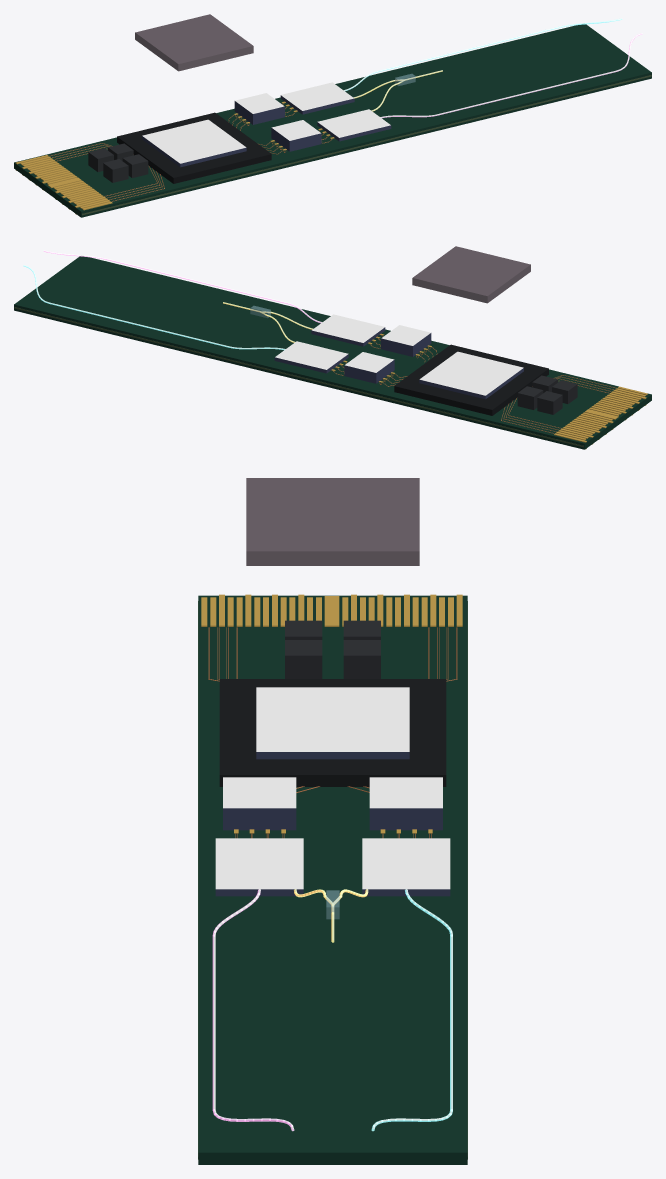
The model's file is coherent-internals.glb.
3 renders of one model, top to bottom at view 1: azimuth 30°, elevation 25°; view 2: azimuth 150°, elevation 25°; view 3: azimuth 270°, elevation 25°, orthographic. The views are drawn at different scales.
Parts seen in each view (by area): view 1: REFERENCE_coherent-internals_0006, REFERENCE_coherent-internals_0005, REFERENCE_coherent-internals_0008, REFERENCE_coherent-internals_0000, REFERENCE_coherent-internals_0011, REFERENCE_coherent-internals_0007, REFERENCE_coherent-internals_0001, REFERENCE_coherent-internals_0002, REFERENCE_coherent-internals_0010, REFERENCE_coherent-internals_0003, REFERENCE_coherent-internals_0004, REFERENCE_coherent-internals_0012 (+2 smaller); view 2: REFERENCE_coherent-internals_0006, REFERENCE_coherent-internals_0005, REFERENCE_coherent-internals_0008, REFERENCE_coherent-internals_0000, REFERENCE_coherent-internals_0011, REFERENCE_coherent-internals_0007, REFERENCE_coherent-internals_0002, REFERENCE_coherent-internals_0001, REFERENCE_coherent-internals_0010, REFERENCE_coherent-internals_0003, REFERENCE_coherent-internals_0004, REFERENCE_coherent-internals_0012 (+2 smaller); view 3: REFERENCE_coherent-internals_0006, REFERENCE_coherent-internals_0005, REFERENCE_coherent-internals_0008, REFERENCE_coherent-internals_0000, REFERENCE_coherent-internals_0011, REFERENCE_coherent-internals_0001, REFERENCE_coherent-internals_0002, REFERENCE_coherent-internals_0007, REFERENCE_coherent-internals_0003, REFERENCE_coherent-internals_0004, REFERENCE_coherent-internals_0015, REFERENCE_coherent-internals_0012 (+2 smaller).
Boxes of the visible parts, <box> form: REFERENCE_coherent-internals_0006: <box>14,24,651,217</box>; REFERENCE_coherent-internals_0005: <box>135,14,253,71</box>; REFERENCE_coherent-internals_0008: <box>117,112,271,183</box>; REFERENCE_coherent-internals_0000: <box>142,119,246,167</box>; REFERENCE_coherent-internals_0011: <box>15,101,334,214</box>; REFERENCE_coherent-internals_0007: <box>88,143,148,182</box>; REFERENCE_coherent-internals_0001: <box>280,82,354,114</box>; REFERENCE_coherent-internals_0002: <box>317,109,391,141</box>; REFERENCE_coherent-internals_0010: <box>82,75,651,215</box>; REFERENCE_coherent-internals_0003: <box>234,93,284,124</box>; REFERENCE_coherent-internals_0004: <box>271,120,321,151</box>; REFERENCE_coherent-internals_0012: <box>50,103,332,201</box>; REFERENCE_coherent-internals_0006: <box>14,256,651,449</box>; REFERENCE_coherent-internals_0005: <box>412,246,530,303</box>; REFERENCE_coherent-internals_0008: <box>394,344,548,415</box>; REFERENCE_coherent-internals_0000: <box>419,351,523,399</box>; REFERENCE_coherent-internals_0011: <box>331,333,647,449</box>; REFERENCE_coherent-internals_0007: <box>517,375,577,414</box>; REFERENCE_coherent-internals_0002: <box>311,314,385,346</box>; REFERENCE_coherent-internals_0001: <box>274,341,348,373</box>; REFERENCE_coherent-internals_0010: <box>14,307,583,447</box>; REFERENCE_coherent-internals_0003: <box>344,352,394,383</box>; REFERENCE_coherent-internals_0004: <box>381,325,431,356</box>; REFERENCE_coherent-internals_0012: <box>333,335,615,433</box>; REFERENCE_coherent-internals_0006: <box>198,595,467,1164</box>; REFERENCE_coherent-internals_0005: <box>246,478,419,565</box>; REFERENCE_coherent-internals_0008: <box>219,679,446,786</box>; REFERENCE_coherent-internals_0000: <box>256,687,409,759</box>; REFERENCE_coherent-internals_0011: <box>201,594,462,833</box>; REFERENCE_coherent-internals_0001: <box>362,838,450,896</box>; REFERENCE_coherent-internals_0002: <box>215,838,303,896</box>; REFERENCE_coherent-internals_0007: <box>285,620,380,678</box>; REFERENCE_coherent-internals_0003: <box>369,777,442,830</box>; REFERENCE_coherent-internals_0004: <box>223,777,296,830</box>; REFERENCE_coherent-internals_0015: <box>212,889,294,1131</box>; REFERENCE_coherent-internals_0012: <box>208,627,457,838</box>.
Bounding box in the file's own units: 0.1012 × 0.0197 × 0.0203.
